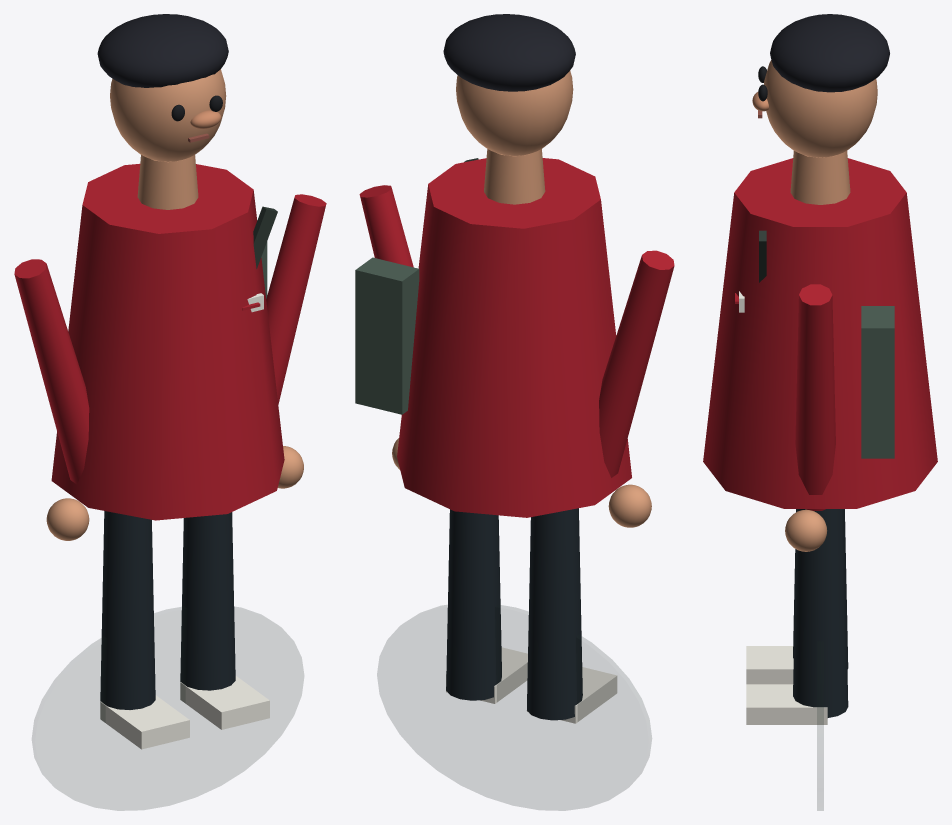
File: player_male_red.glb
3 renders of one model, left to right at view 1: azimuth 30°, elevation 25°; view 2: azimuth 150°, elevation 25°; view 3: azimuth 270°, elevation 25°, orthographic. The views are drawn at different scales.
Visible parts, largest first — view 1: torso, contact_shadow, leg_-0.095, leg_0.095, hair_cap, arm_-0.255, head, arm_0.255, shoe_-0.095, shoe_0.095, neck, hand_-0.255 (+2 smaller); view 2: torso, contact_shadow, leg_-0.095, leg_0.095, shoulder_bag, hair_cap, arm_-0.255, head, neck, arm_0.255, hand_-0.255, shoe_-0.095 (+1 smaller); view 3: torso, leg_0.095, arm_0.255, hair_cap, head, shoulder_bag, neck, shoe_0.095, shoe_-0.095, hand_0.255, contact_shadow.
Part boxes in pixels (bbox=[...]): torso: bbox=[51, 163, 284, 520]; contact_shadow: bbox=[32, 607, 303, 810]; leg_-0.095: bbox=[100, 511, 155, 709]; leg_0.095: bbox=[180, 512, 235, 690]; hair_cap: bbox=[97, 14, 228, 87]; arm_-0.255: bbox=[14, 259, 89, 484]; head: bbox=[110, 69, 226, 161]; arm_0.255: bbox=[266, 194, 326, 404]; shoe_-0.095: bbox=[100, 695, 189, 749]; shoe_0.095: bbox=[180, 676, 269, 729]; neck: bbox=[137, 155, 198, 209]; hand_-0.255: bbox=[46, 498, 89, 540]; torso: bbox=[397, 158, 631, 517]; contact_shadow: bbox=[377, 605, 651, 810]; leg_-0.095: bbox=[527, 508, 582, 720]; leg_0.095: bbox=[446, 509, 501, 700]; shoulder_bag: bbox=[355, 257, 419, 414]; hair_cap: bbox=[443, 14, 575, 91]; arm_-0.255: bbox=[599, 250, 674, 477]; head: bbox=[456, 70, 573, 155]; neck: bbox=[484, 149, 545, 204]; arm_0.255: bbox=[359, 185, 413, 267]; hand_-0.255: bbox=[608, 484, 651, 527]; shoe_-0.095: bbox=[527, 667, 617, 723]; torso: bbox=[703, 158, 937, 508]; leg_0.095: bbox=[793, 509, 848, 717]; arm_0.255: bbox=[795, 284, 835, 510]; hair_cap: bbox=[770, 14, 889, 92]; head: bbox=[764, 60, 877, 157]; shoulder_bag: bbox=[861, 306, 894, 458]; neck: bbox=[790, 151, 850, 204]; shoe_0.095: bbox=[746, 684, 827, 724]; shoe_-0.095: bbox=[746, 646, 793, 684]; hand_0.255: bbox=[785, 509, 827, 551]; contact_shadow: bbox=[817, 642, 823, 810].
Bounding box in the file's own units: 0.7579 × 1.83 × 0.5096.
